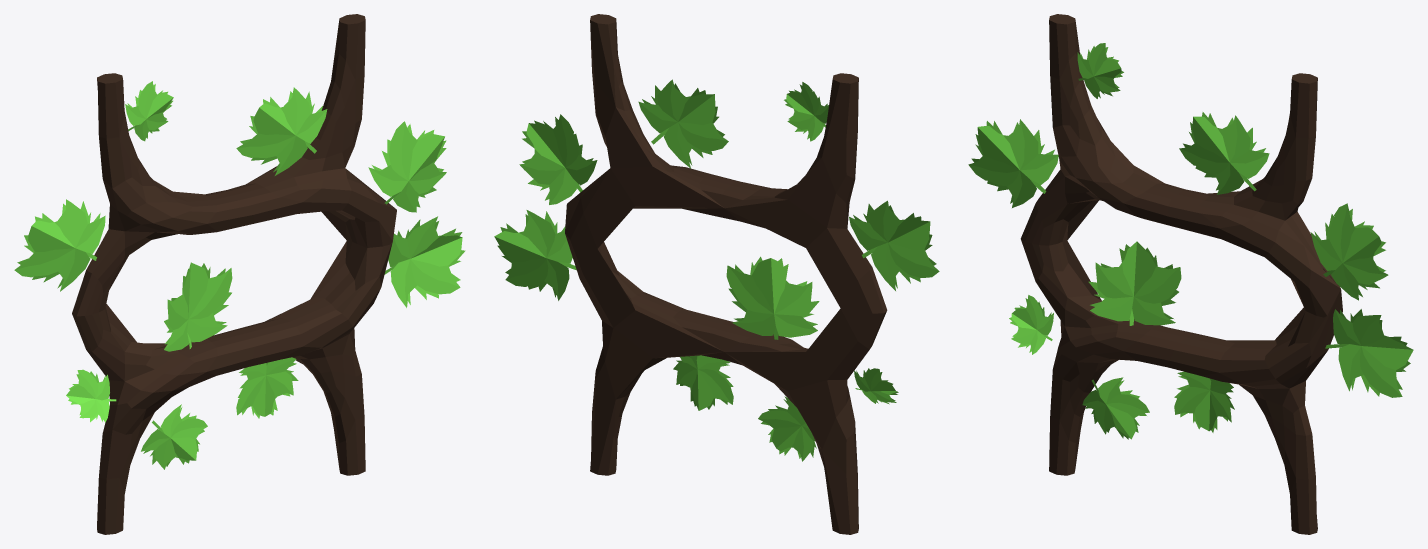
Rendered from vine.glb.
3 renders of one model, left to right at view 1: azimuth 30°, elevation 25°; view 2: azimuth 150°, elevation 25°; view 3: azimuth 330°, elevation 25°, orthographic.
Parts seen in each view (by area): view 1: wood, leave.002, leave.006, leave.001, leave, leave.004, leave.005, leave.007, leave.008, leave.003; view 2: wood, leave.004, leave.002, leave.006, leave.001, leave, leave.005, leave.007, leave.008, leave.003; view 3: wood, leave.004, leave.006, leave.002, leave.001, leave, leave.005, leave.007, leave.008, leave.003.
Part boxes in pixels (bbox=[...]): wood: bbox=[72, 14, 396, 534]; leave.002: bbox=[14, 199, 105, 291]; leave.006: bbox=[384, 216, 465, 307]; leave.001: bbox=[236, 87, 327, 175]; leave: bbox=[368, 121, 446, 212]; leave.004: bbox=[164, 262, 232, 351]; leave.005: bbox=[236, 357, 298, 418]; leave.007: bbox=[141, 404, 207, 469]; leave.008: bbox=[125, 81, 173, 141]; leave.003: bbox=[66, 369, 116, 422]; wood: bbox=[565, 14, 887, 534]; leave.004: bbox=[726, 256, 819, 339]; leave.002: bbox=[849, 200, 939, 290]; leave.006: bbox=[494, 210, 576, 300]; leave.001: bbox=[638, 79, 728, 168]; leave: bbox=[519, 114, 597, 204]; leave.005: bbox=[673, 355, 733, 410]; leave.007: bbox=[758, 396, 816, 461]; leave.008: bbox=[784, 82, 828, 141]; leave.003: bbox=[854, 368, 898, 404]; wood: bbox=[1020, 14, 1342, 534]; leave.004: bbox=[1088, 241, 1181, 325]; leave.006: bbox=[1325, 309, 1413, 397]; leave.002: bbox=[968, 119, 1058, 207]; leave.001: bbox=[1179, 112, 1269, 194]; leave: bbox=[1310, 203, 1388, 300]; leave.005: bbox=[1174, 371, 1234, 432]; leave.007: bbox=[1082, 377, 1149, 439]; leave.008: bbox=[1077, 43, 1123, 98]; leave.003: bbox=[1009, 295, 1053, 354].
Bounding box in the file's own units: 4.15 × 4 × 0.3917.
